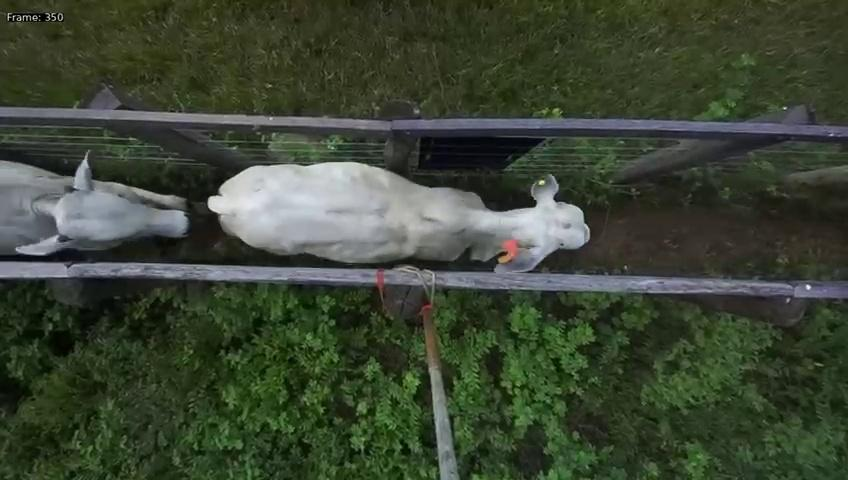cattle: (201, 128, 592, 273)
